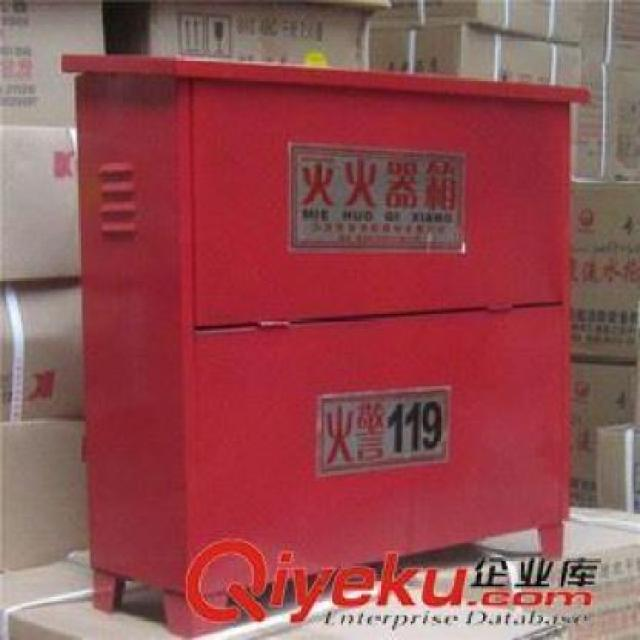firehydrant: (54, 43, 597, 640)
